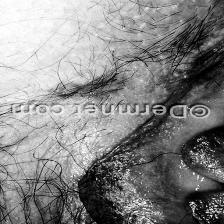Toxin: (44, 74, 125, 100)
